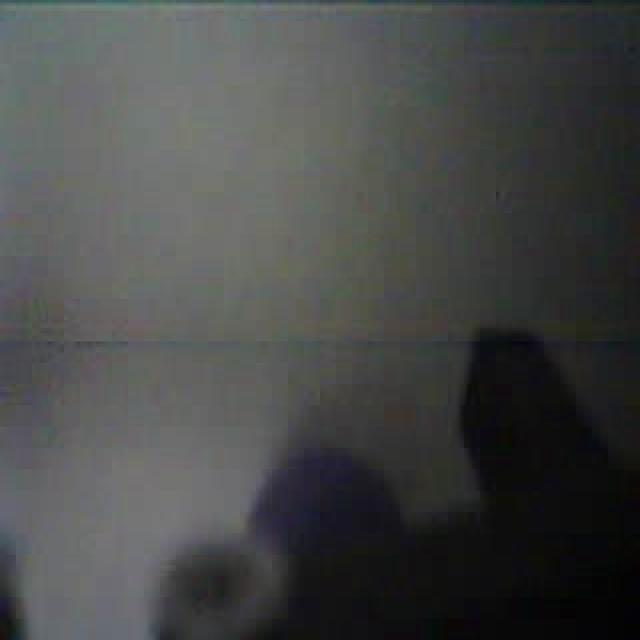blue_ball: (238, 432, 415, 578)
